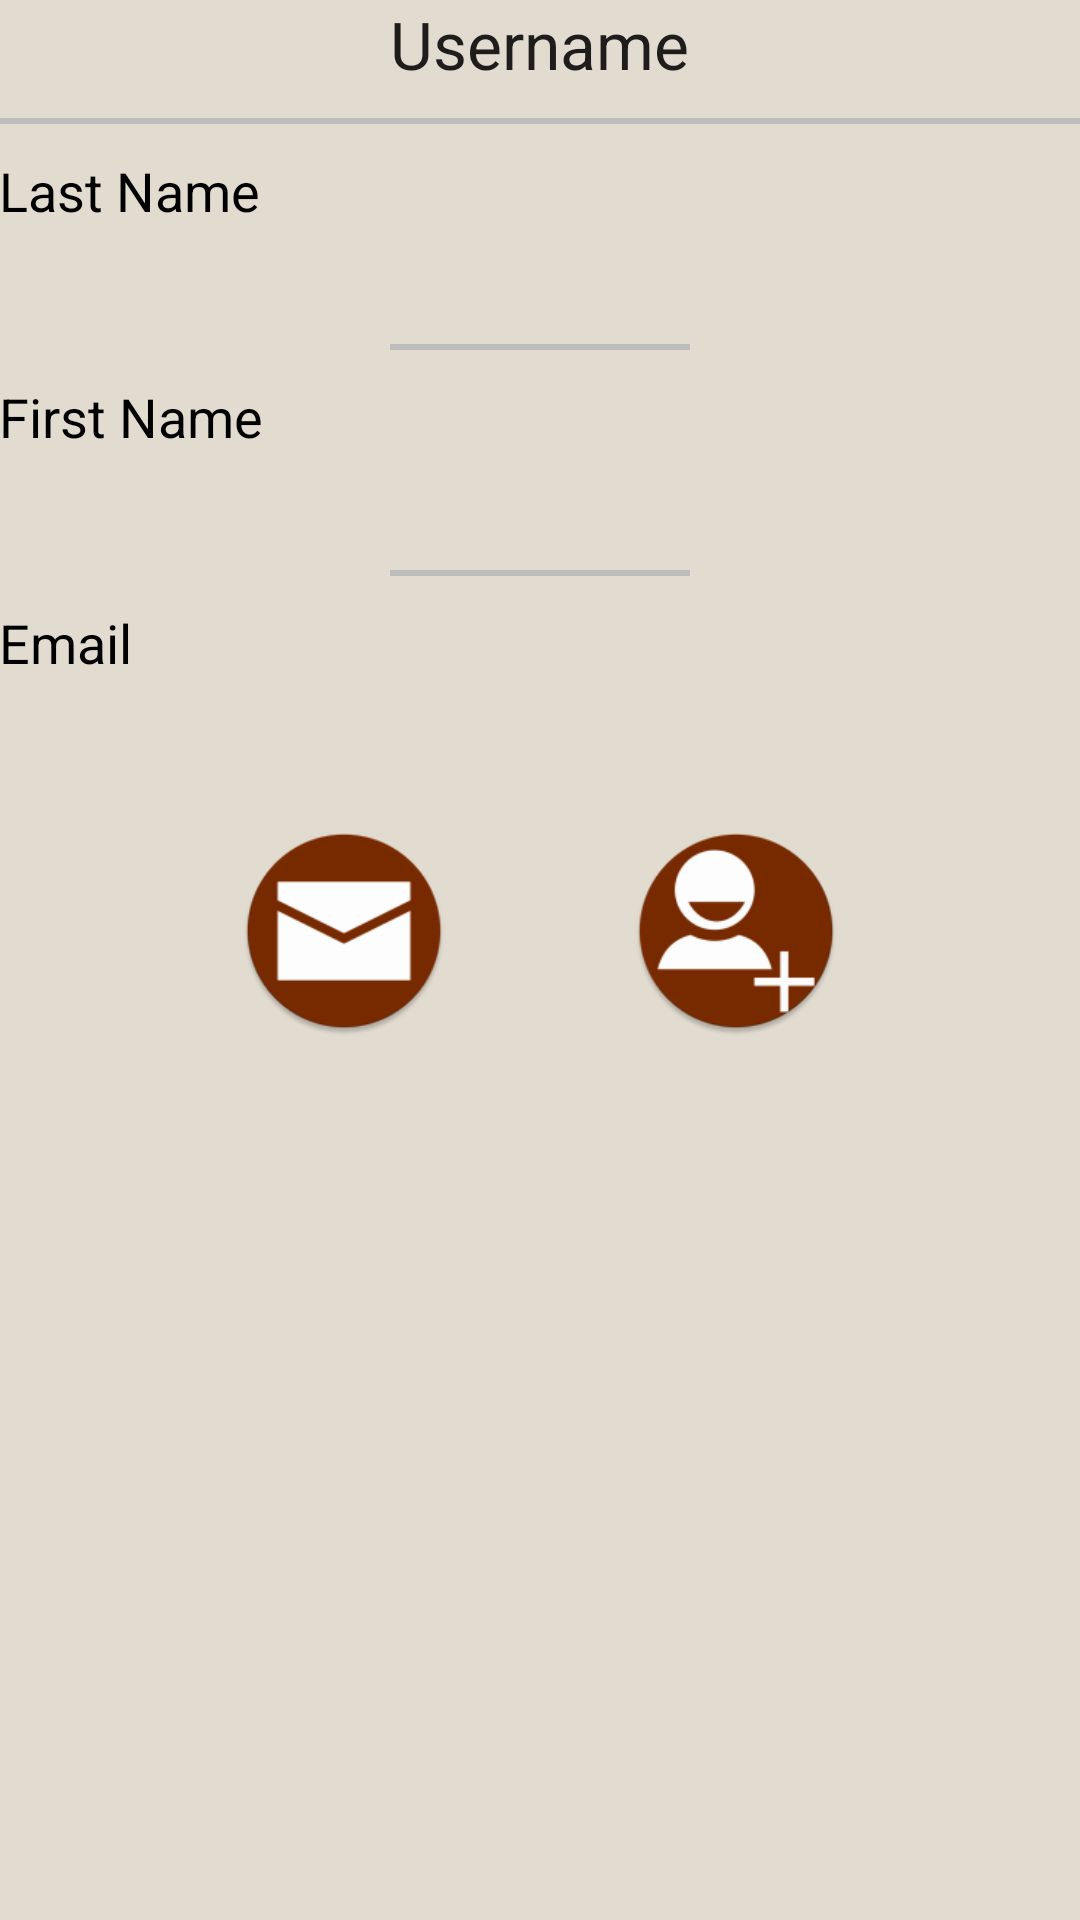

Screen size 1080×1920. Icon name, then its center in pixels as point (x, y):
add friend: point (736, 932)
